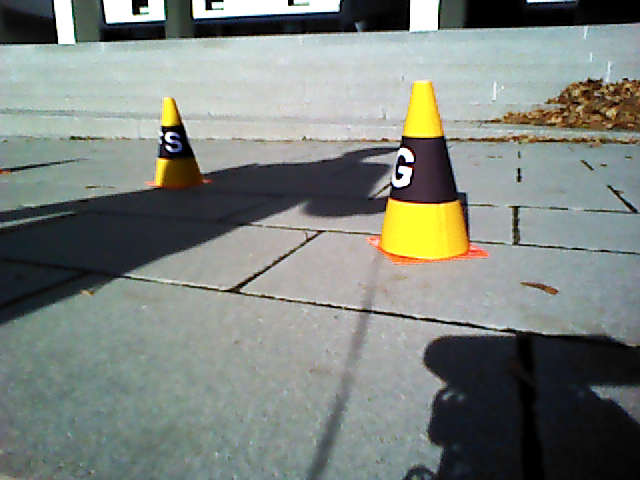yellowcone: (379, 81, 468, 254), (154, 97, 200, 183)
